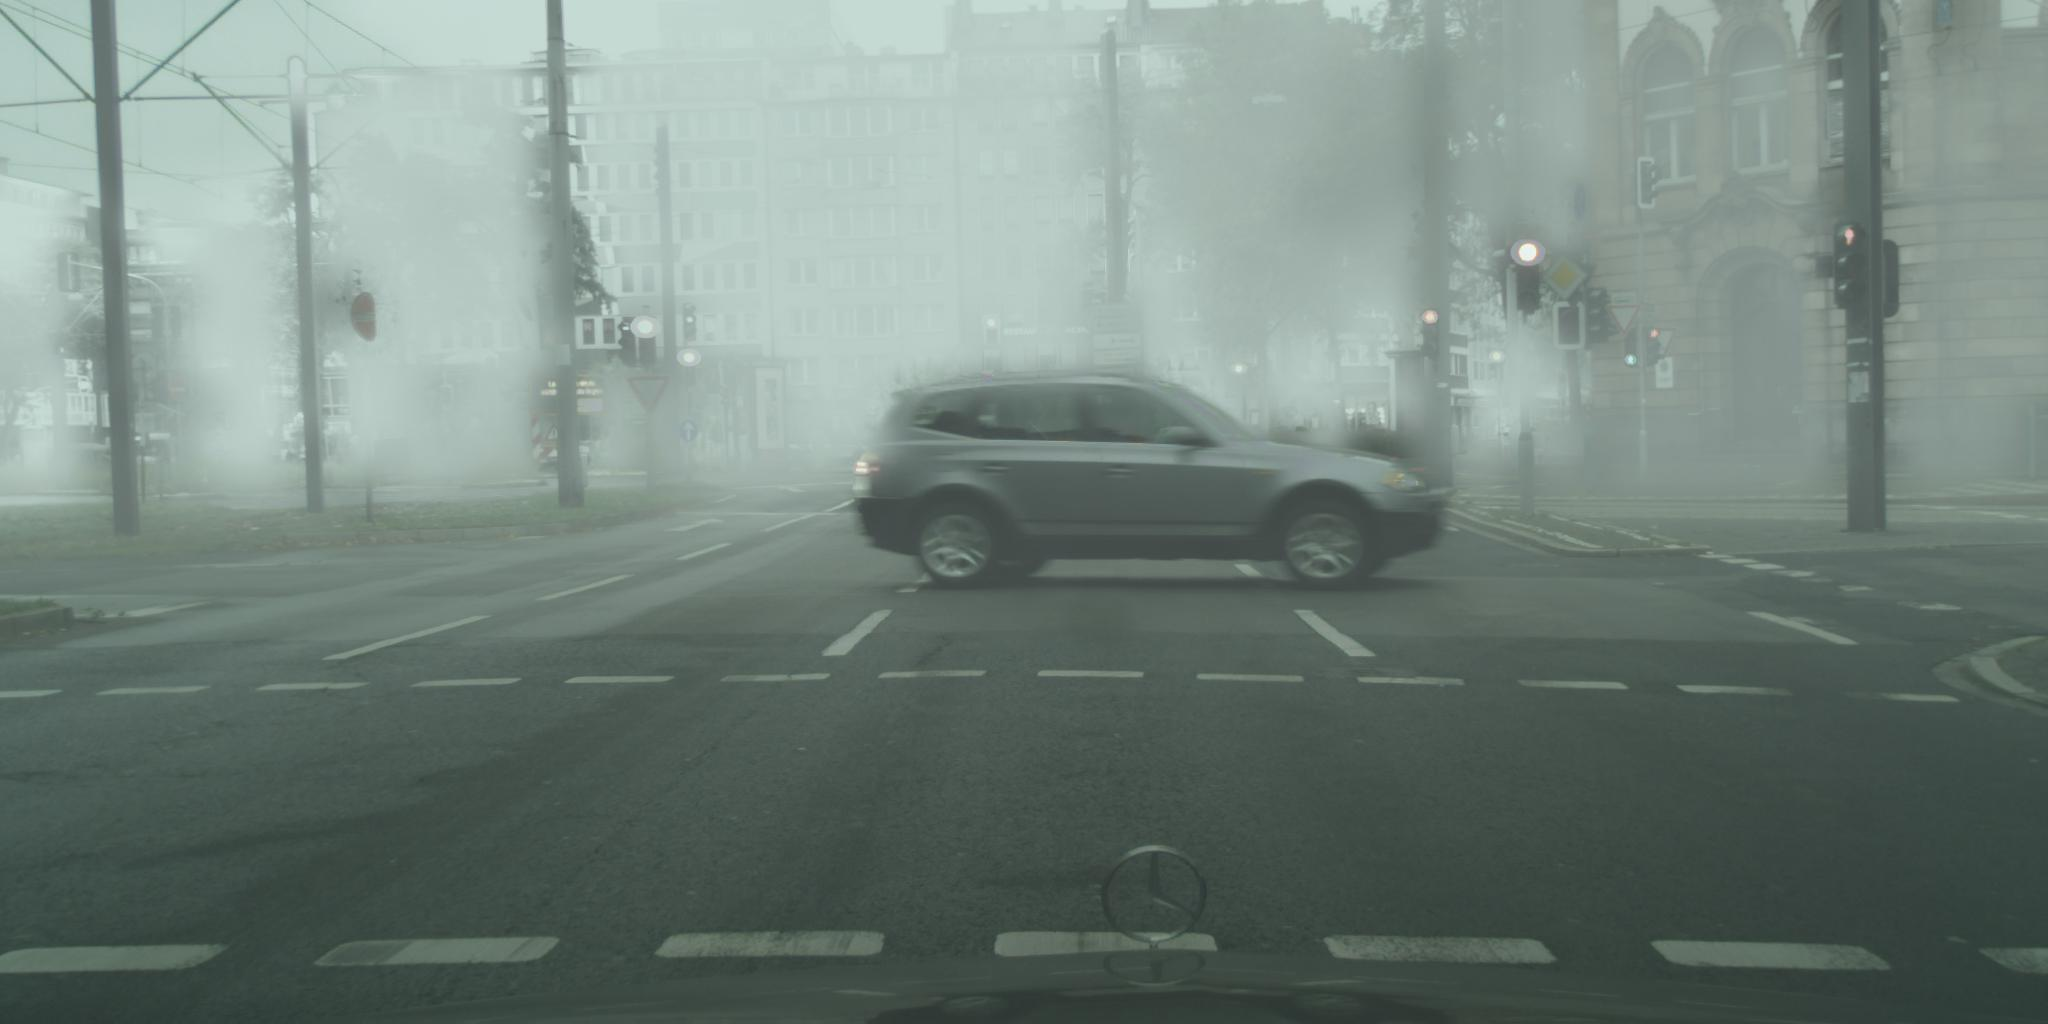car: (852, 372, 1448, 590), (1531, 421, 1579, 458), (1558, 418, 1591, 444), (1502, 424, 1516, 445)
motorcycle: (785, 439, 816, 472)
